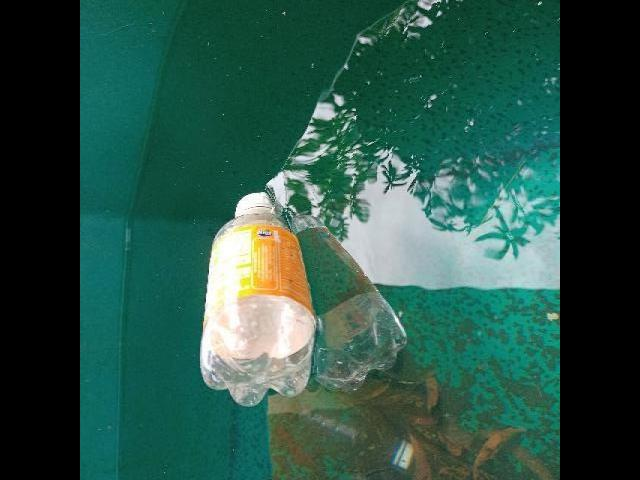Bottle: (195, 186, 322, 416)
